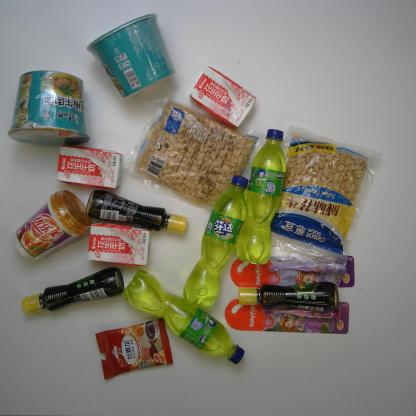Dried Fruit: (270, 124, 382, 278), (123, 95, 265, 214)
Drink: (122, 270, 245, 366), (179, 175, 250, 311), (236, 127, 287, 265)
Instant Drink: (12, 189, 92, 262), (95, 315, 174, 381)
Instant Noodles: (85, 12, 176, 99), (6, 69, 90, 147)
Milk: (188, 65, 256, 130), (56, 144, 124, 191), (86, 223, 152, 267)
Personal Hygiene: (224, 298, 350, 335), (230, 255, 356, 288)
Seasoner: (21, 267, 125, 318), (85, 189, 190, 235), (238, 280, 341, 312)
